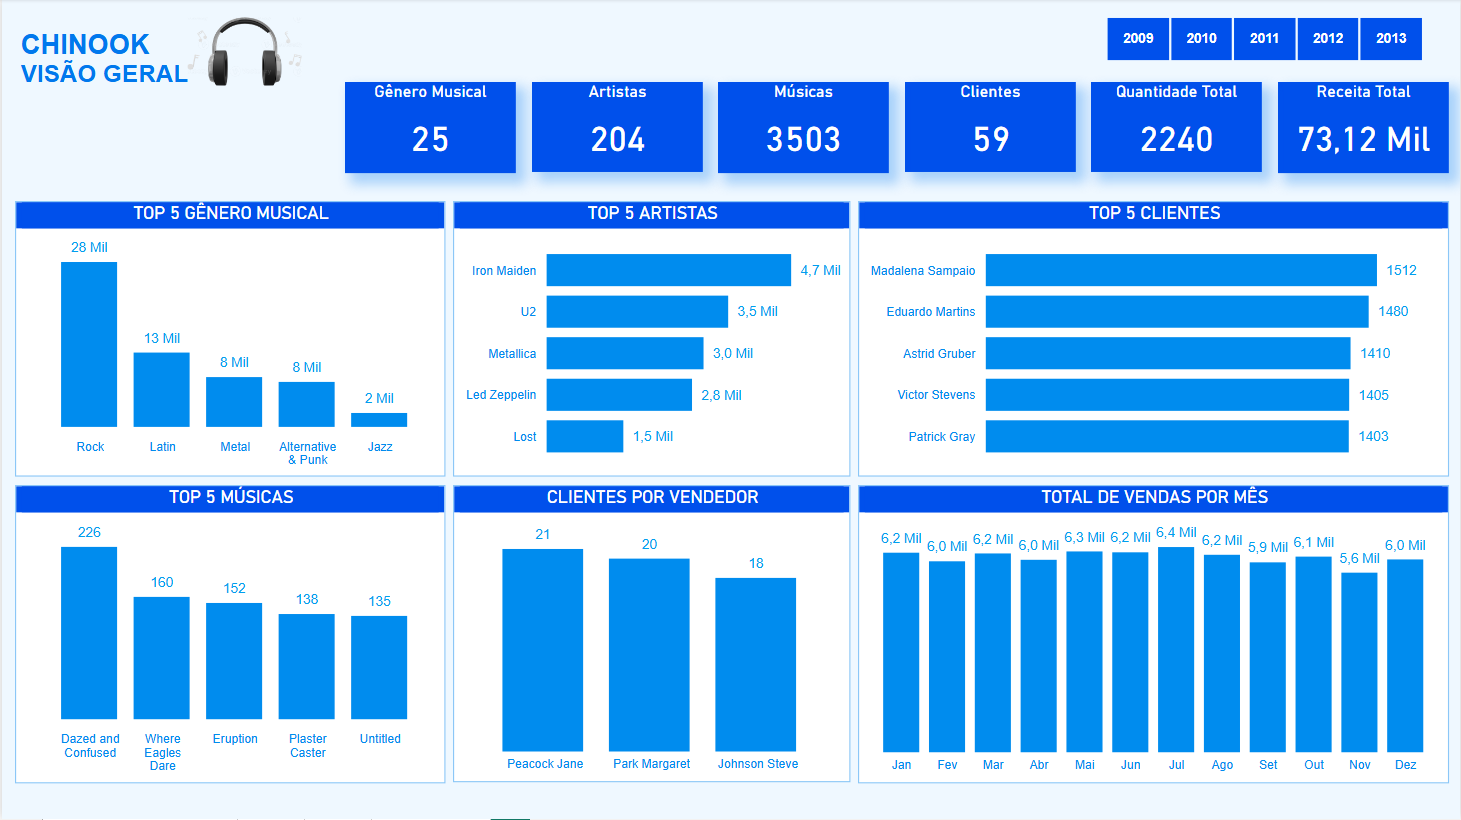

The dashboard page shown, as its layout file describes it:
{"tool":"powerbi","page":{"name":"Chinook Database OverView","canvas":[1280,720],"ordinal":0},"visuals":[{"type":"card","title":"Clientes","fields":{"Values":["#Medidas.TOTAL DE CLIENTES"]},"box":[650.5,71.1,189,89],"z":0},{"type":"card","title":"Artistas","fields":{"Values":["#Medidas.TOTAL DE ARTISTAS"]},"box":[228.3,72,189.7,89.6],"z":1000},{"type":"card","title":"Músicas","fields":{"Values":["#Medidas.TOTAL DE MÚSICAS"]},"box":[439.8,71.1,189,89],"z":2000},{"type":"card","title":"Receita Total","fields":{"Values":["#Medidas.RECEITA TOTAL"]},"box":[1072.1,72.9,188.8,88.7],"z":3000},{"type":"slicer","fields":{"Values":["dim_calendario.Ano"]},"box":[916.7,13.2,328.4,41.3],"z":4000},{"type":"card","title":"Gênero Musical","fields":{"Values":["#Medidas.TOTAL DE GÊNEROS MUSICAIS"]},"box":[17.6,72.9,189,89],"z":5000},{"type":"card","title":"Quantidade","fields":{"Values":["#Medidas.QUANTIDADE"]},"box":[861.3,71.4,189,89],"z":6000},{"type":"textbox","box":[417.1,7,472.4,54.4],"z":7000},{"type":"clusteredColumnChart","title":"TOP 5 Gênero Musical","fields":{"Category":["Genre.Name"],"Y":["#Medidas.RECEITA TOTAL"]},"box":[17.6,177.4,382.8,242.3],"z":8000},{"type":"columnChart","title":"Clientes por Vendedor","fields":{"Category":["Employee.VENDEDOR"],"Y":["#Medidas.TOTAL DE CLIENTES"]},"box":[375.2,434.2,313,262],"z":9000},{"type":"clusteredColumnChart","title":"TOP 5 Músicas","fields":{"Category":["Track.Name"],"Y":["#Medidas.RECEITA TOTAL"]},"box":[17.6,433.8,346,261.7],"z":10000},{"type":"clusteredBarChart","title":"TOP 5 Clientes","fields":{"Category":["Customer.CLIENTE"],"Y":["#Medidas.RECEITA TOTAL"]},"box":[784.1,177.4,476.8,242.3],"z":11000},{"type":"clusteredColumnChart","title":"Total de Vendas por Mês","fields":{"Category":["dim_calendario.Mês abrev"],"Y":["#Medidas.RECEITA TOTAL"]},"box":[699.8,433.8,561.1,261.7],"z":12000},{"type":"clusteredBarChart","title":"TOP 5 Artistas","fields":{"Category":["Artist.Name"],"Y":["#Medidas.RECEITA TOTAL"]},"box":[417.9,177.6,348.7,242.5],"z":13000}]}

Visuals, with their boxes in screenshot pixels (x1, y1, x2, y2), scaled from the page's 1280x720 canvas onto the 1461x820 screenshot:
"Clientes" card: [left=742, top=81, right=958, bottom=182]
"Artistas" card: [left=261, top=82, right=477, bottom=184]
"Músicas" card: [left=502, top=81, right=718, bottom=182]
"Receita Total" card: [left=1224, top=83, right=1439, bottom=184]
slicer - dim_calendario.Ano: [left=1046, top=15, right=1421, bottom=62]
"Gênero Musical" card: [left=20, top=83, right=236, bottom=184]
"Quantidade" card: [left=983, top=81, right=1199, bottom=183]
textbox: [left=476, top=8, right=1015, bottom=70]
"TOP 5 Gênero Musical" clusteredColumnChart: [left=20, top=202, right=457, bottom=478]
"Clientes por Vendedor" columnChart: [left=428, top=495, right=786, bottom=793]
"TOP 5 Músicas" clusteredColumnChart: [left=20, top=494, right=415, bottom=792]
"TOP 5 Clientes" clusteredBarChart: [left=895, top=202, right=1439, bottom=478]
"Total de Vendas por Mês" clusteredColumnChart: [left=799, top=494, right=1439, bottom=792]
"TOP 5 Artistas" clusteredBarChart: [left=477, top=202, right=875, bottom=478]
